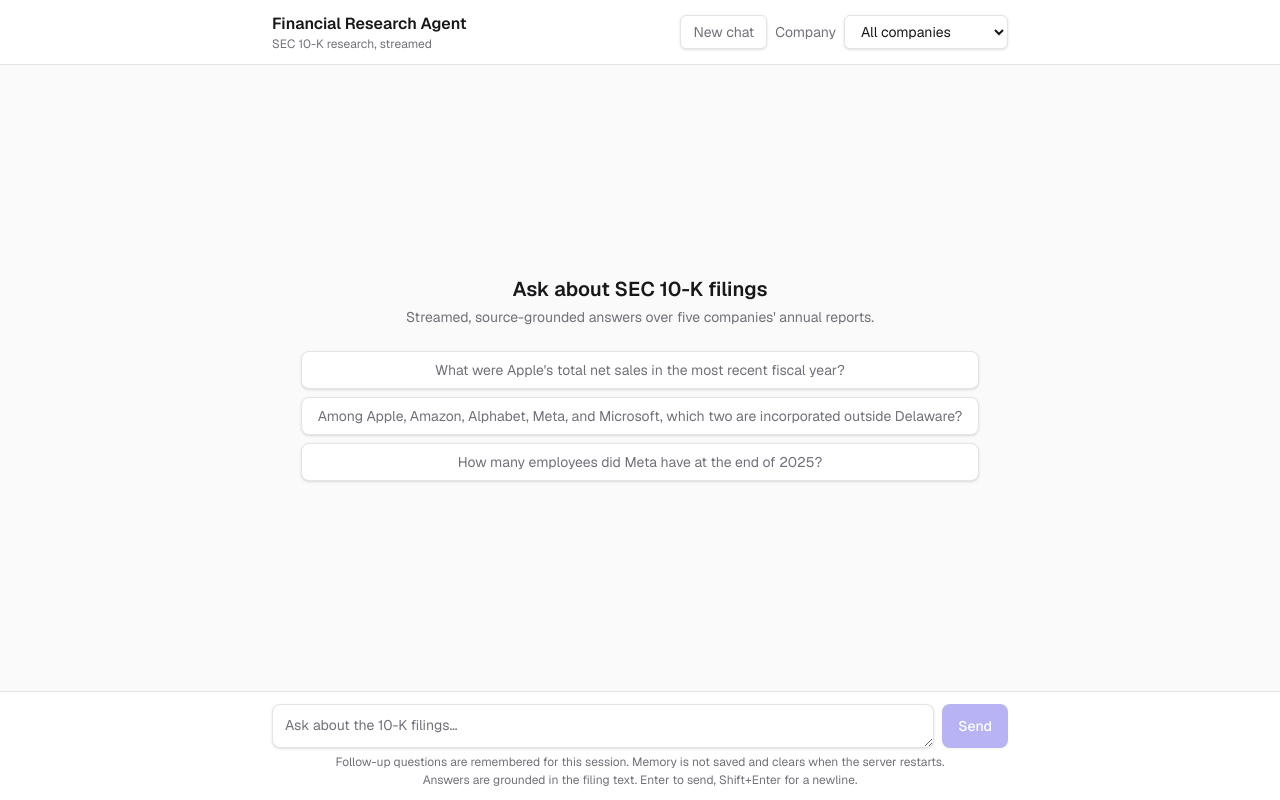
Scenario: chat streaming UI › shows a withheld answer as refused
Type "What was the figure?" into the text box named "Ask a question". click: (603, 726)
box: left=272, top=704, right=934, bottom=748
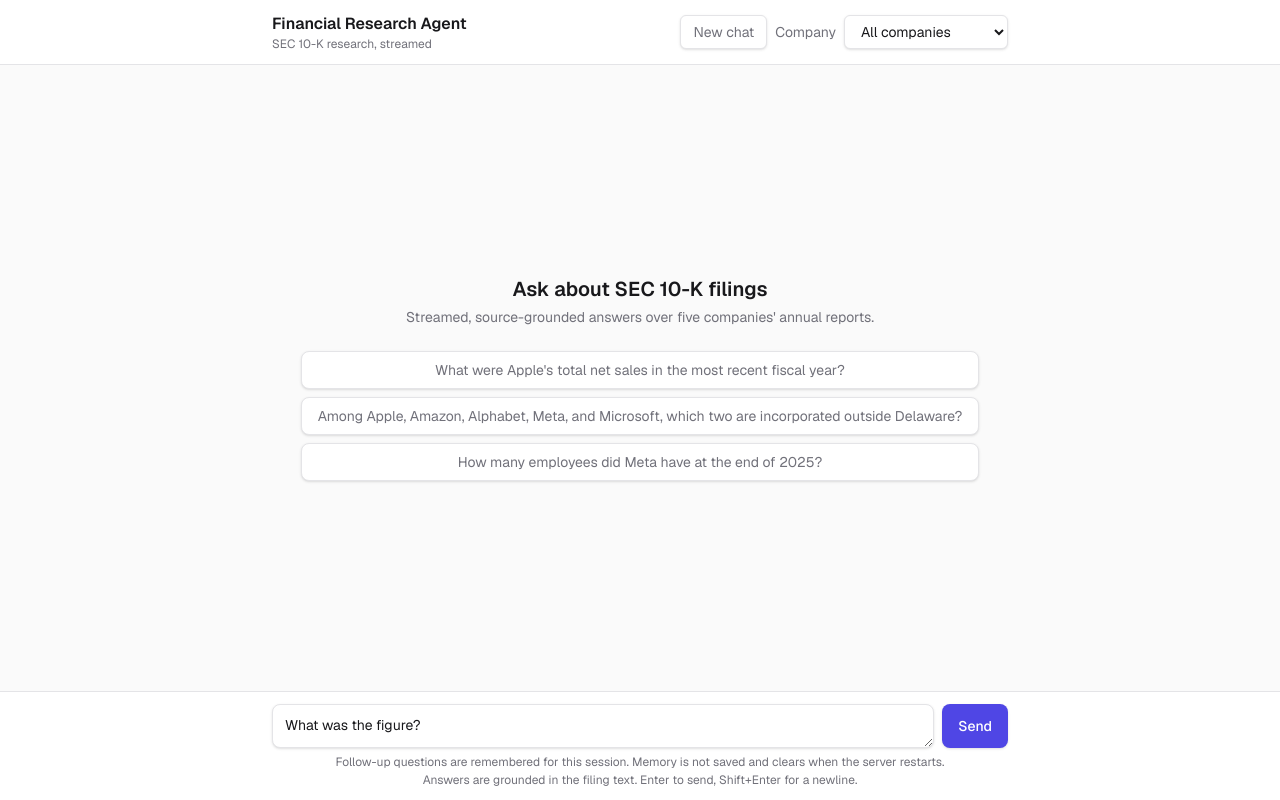
Click the button "Send". click: (975, 726)
box: left=942, top=704, right=1008, bottom=748
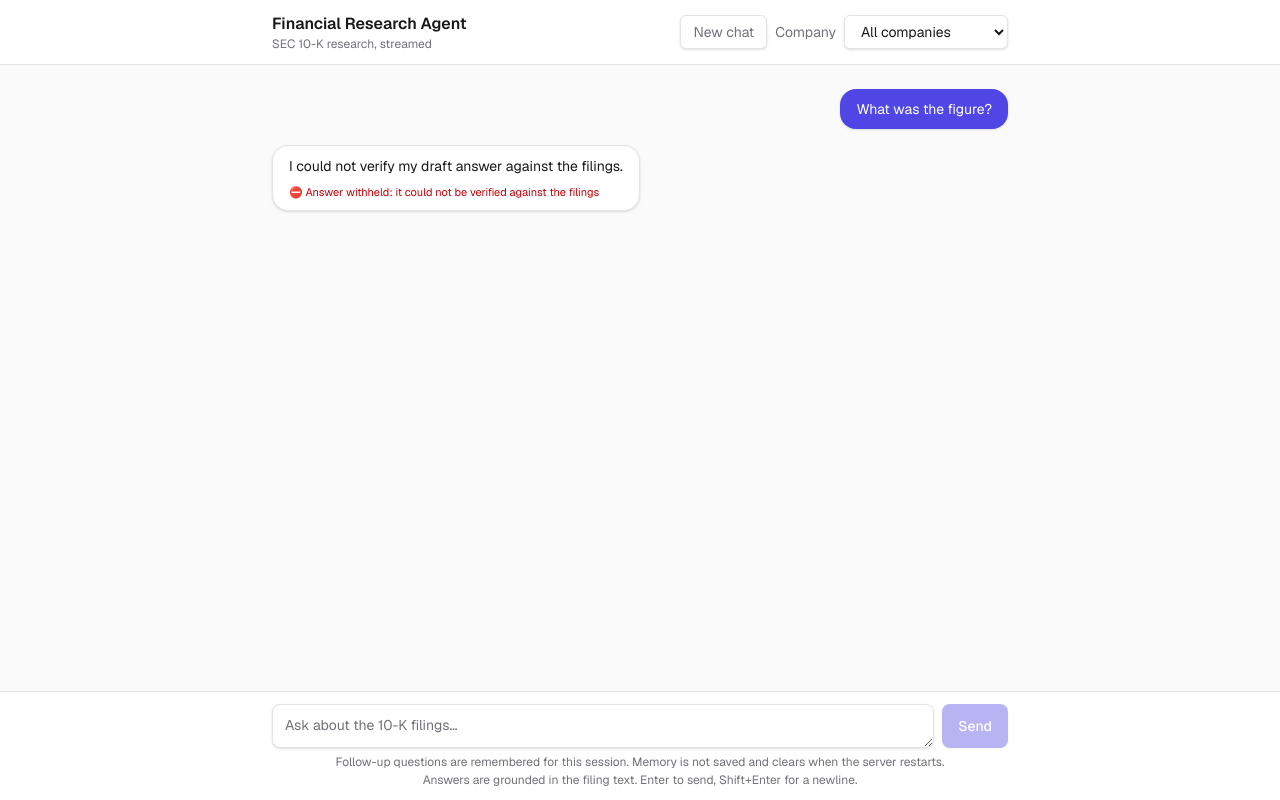
Expected: the text named "Verification" shows "Answer withheld", left=289, top=185, right=599, bottom=199
